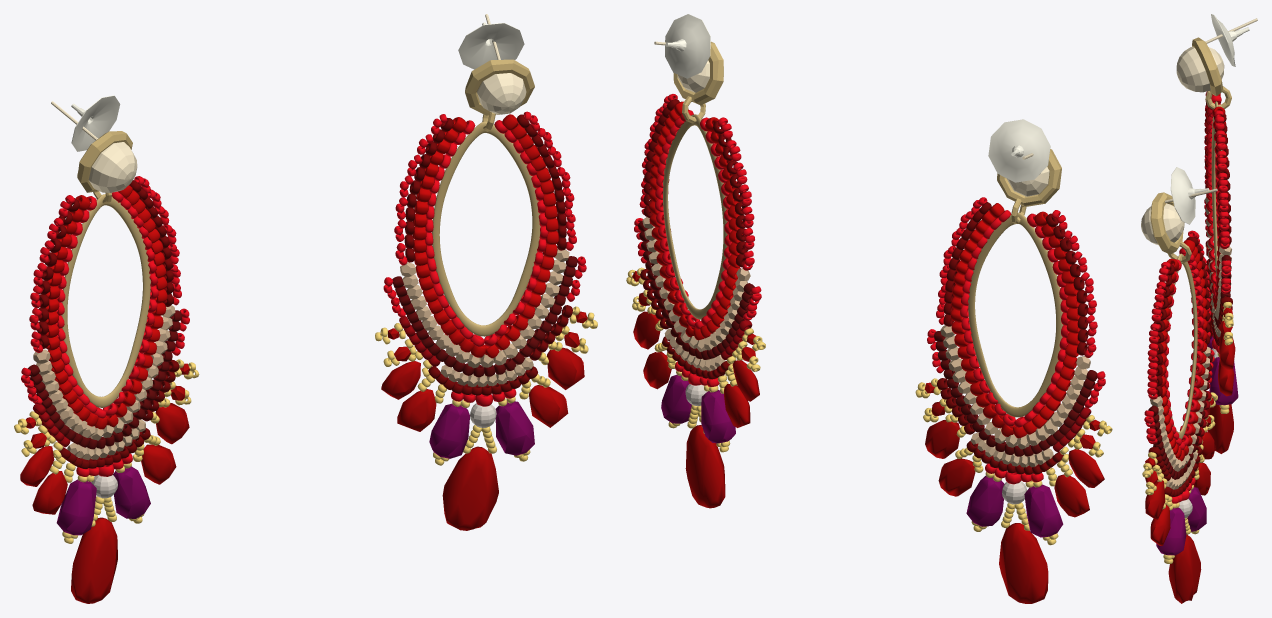
The model's file is red-earrings.fbx.
3 views of the same model, side by side, from view 1: azimuth 30°, elevation 25°; view 2: azimuth 150°, elevation 25°; view 3: azimuth 270°, elevation 25° (orthographic). The views are drawn at different scales.
Visible parts, largest first — view 1: curve45, curve46; view 2: curve46, curve45; view 3: curve45, curve46.
Part boxes in pixels (<box>): curve45: <box>375,14,597,530</box>; curve46: <box>14,95,199,603</box>; curve46: <box>915,119,1112,603</box>; curve45: <box>626,14,765,508</box>; curve45: <box>1141,167,1217,603</box>; curve46: <box>1176,14,1257,453</box>.
Bounding box in the file's own units: 1569 × 1391 × 335.
